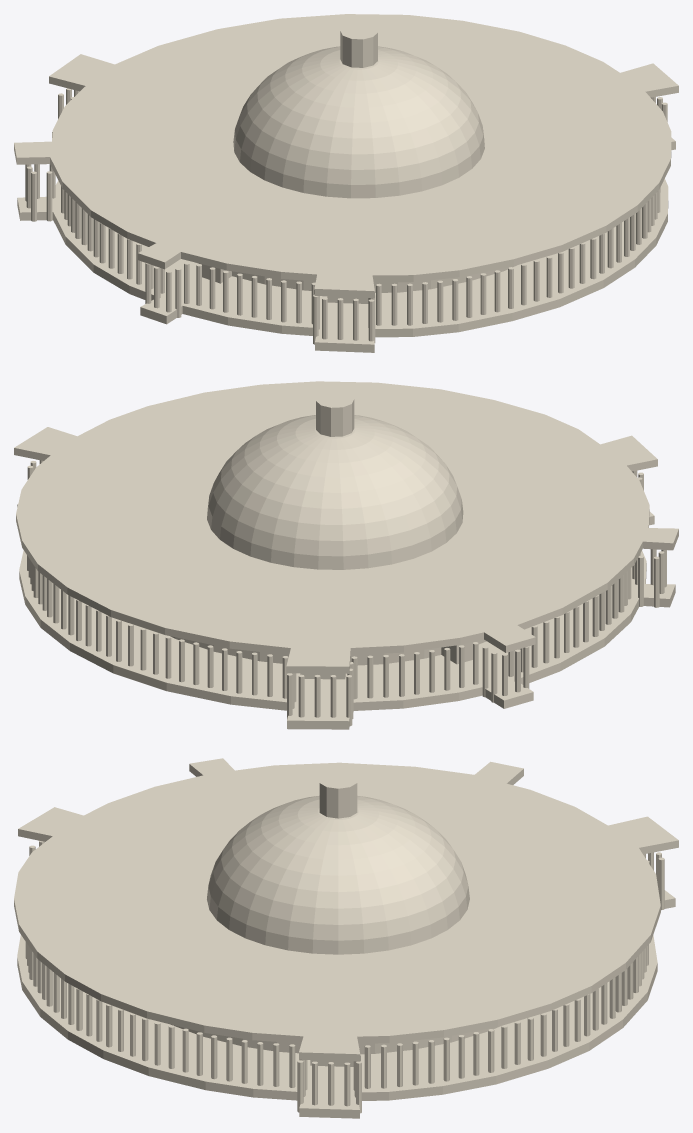
File: old-parliament-house_lod0.glb
3 views of the same model, one above another, from view 1: azimuth 30°, elevation 25°; view 2: azimuth 150°, elevation 25°; view 3: azimuth 270°, elevation 25° (orthographic). The views are drawn at different scales.
Parts seen in each view (by area): view 1: old-parliament-house; view 2: old-parliament-house; view 3: old-parliament-house.
Part boxes in pixels (left/top/right/bottom): old-parliament-house: left=14, top=14, right=678, bottom=352; old-parliament-house: left=14, top=381, right=678, bottom=729; old-parliament-house: left=14, top=758, right=678, bottom=1118.
Size of the model in its own units: 190 by 55.41 by 181.
